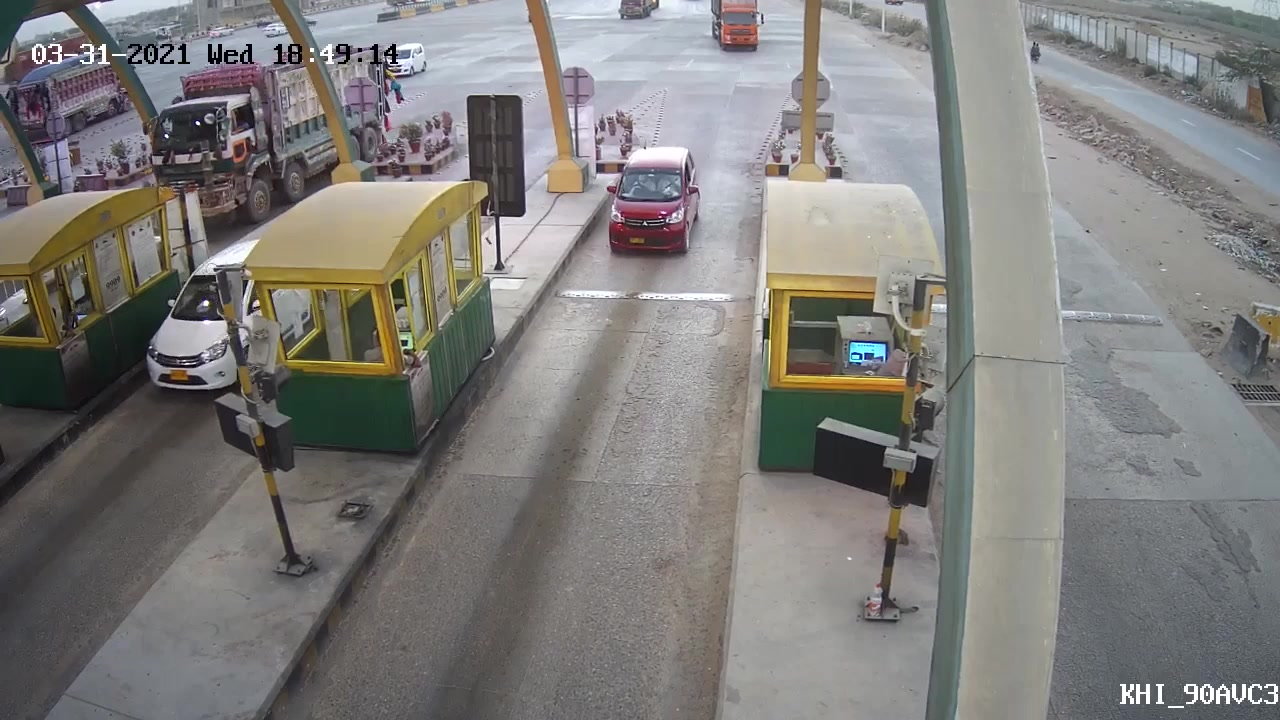F1: (593, 139, 713, 270)
